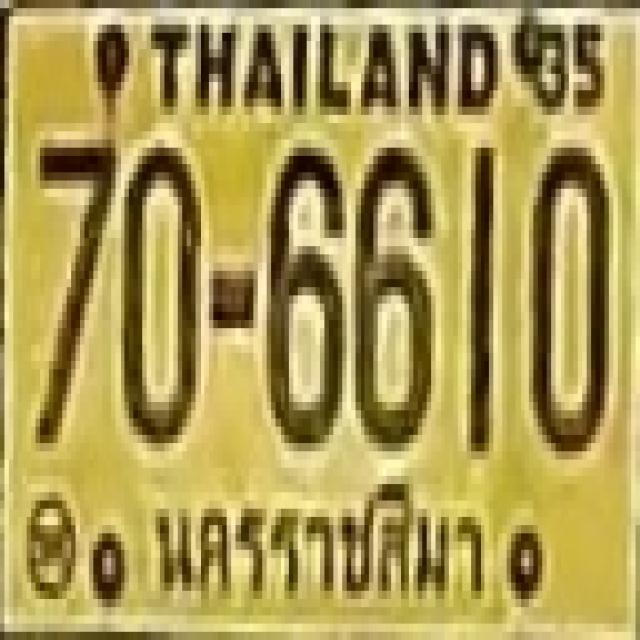0: (529, 140, 604, 452), (120, 139, 196, 435)
1: (467, 140, 489, 443)
6: (351, 140, 427, 443), (264, 140, 340, 443)
7: (34, 131, 114, 435)
NMA: (144, 472, 496, 620)
